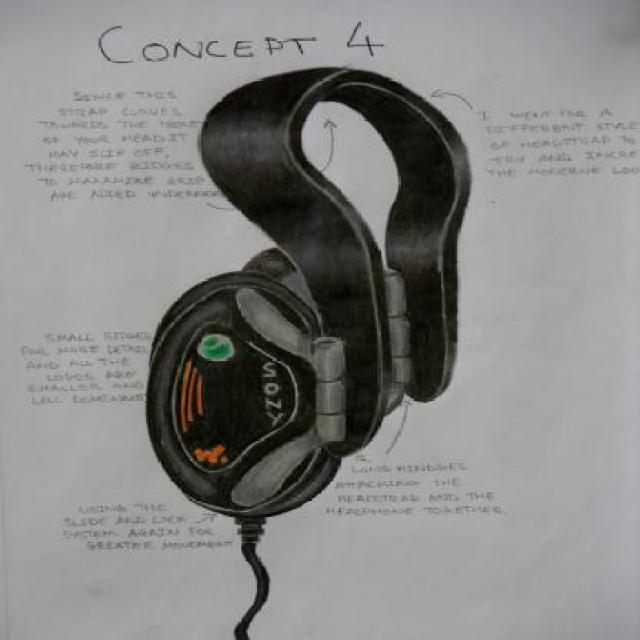earphone: (130, 40, 472, 520)
